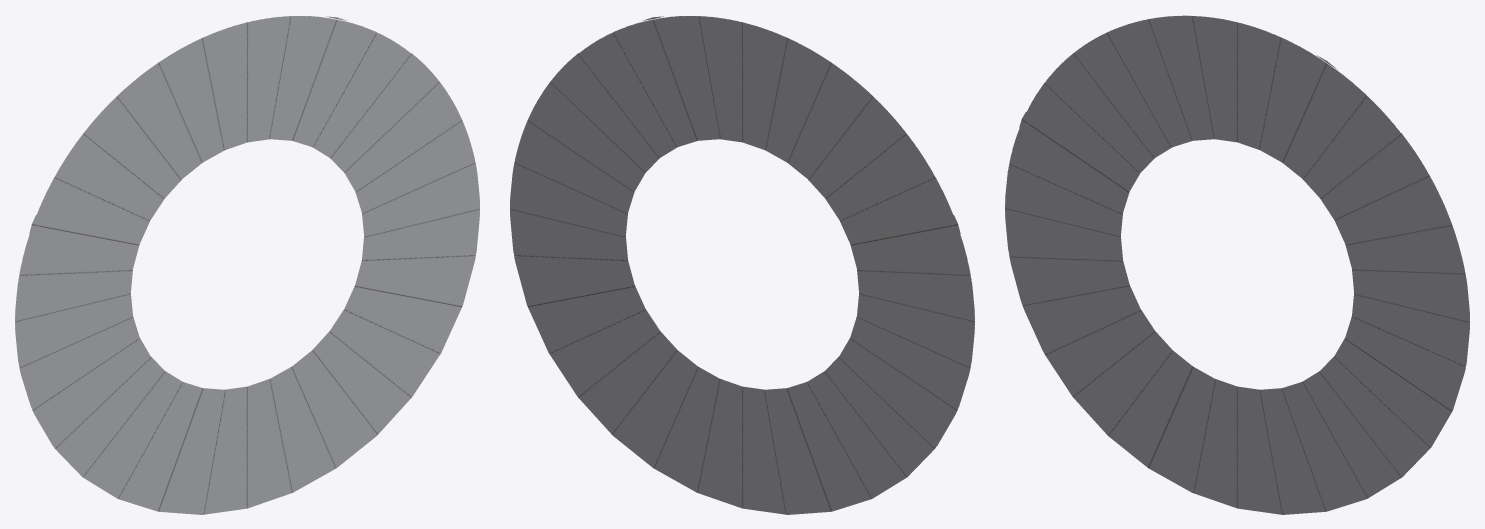
File: world_mod.fbx
3 views of the same model, side by side, from view 1: azimuth 30°, elevation 25°; view 2: azimuth 150°, elevation 25°; view 3: azimuth 330°, elevation 25° (orthographic).
Visible parts, largest first — view 1: pPipe1; view 2: pPipe1; view 3: pPipe1.
Part boxes in pixels (x1,y1,x2,y2): pPipe1: [15, 16, 479, 514]; pPipe1: [510, 16, 974, 514]; pPipe1: [1005, 15, 1469, 514].
Bounding box in the file's own units: 0.156 × 0.156 × 0.
Materials: 1 (1 with a texture image).
